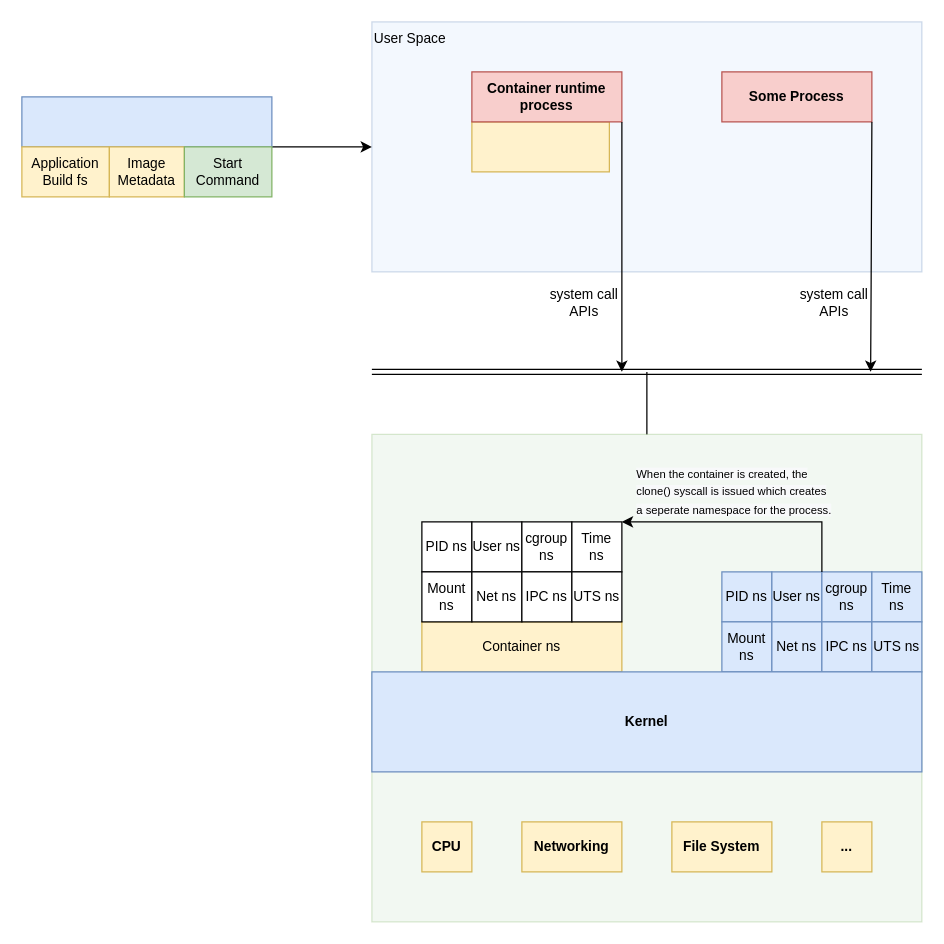
Image size: 944x944. Some labels were removed from this diagram. Here are the shapes that lost their labels. From the top down, the box of each, then its label:
(21, 96, 272, 147): Container Image
(471, 121, 609, 172): Containerised Application Process
(371, 433, 922, 922): Kernel Space
